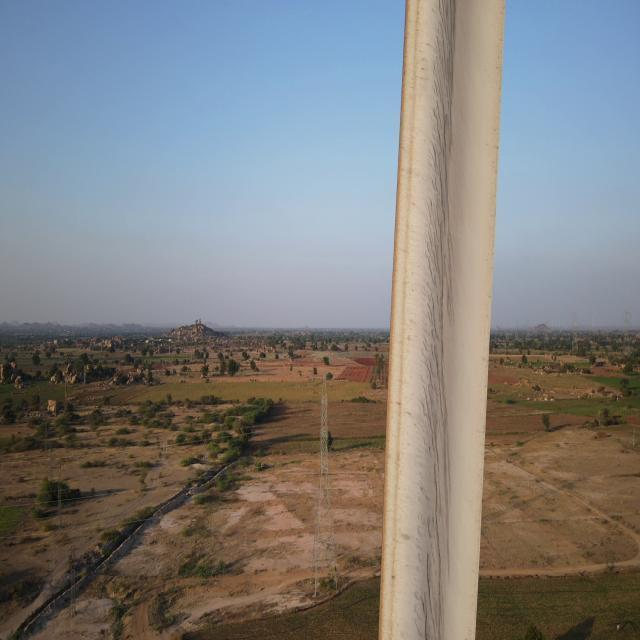Dirt: (412, 5, 455, 636)
